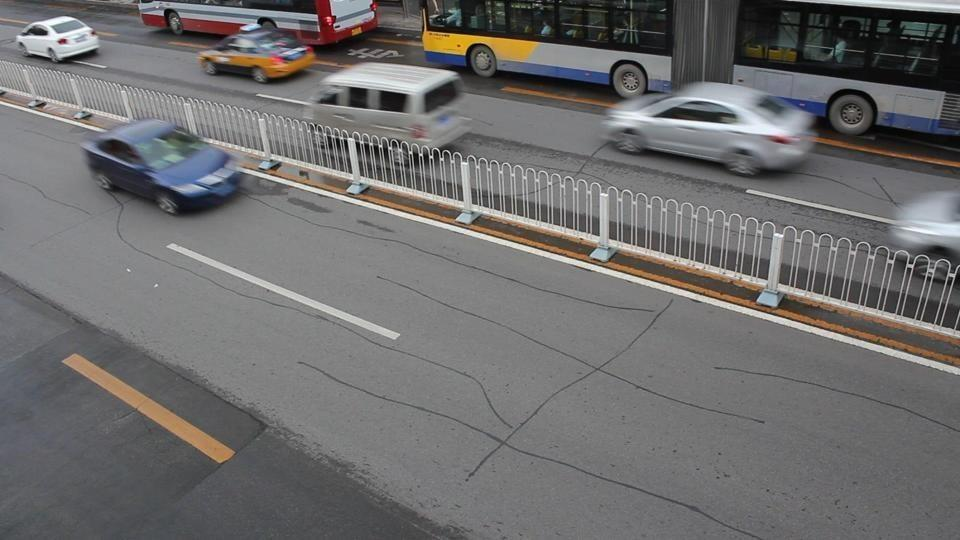car: (602, 82, 816, 178), (78, 117, 241, 216), (314, 62, 472, 150), (196, 28, 316, 83), (887, 190, 960, 269), (14, 14, 99, 63)
